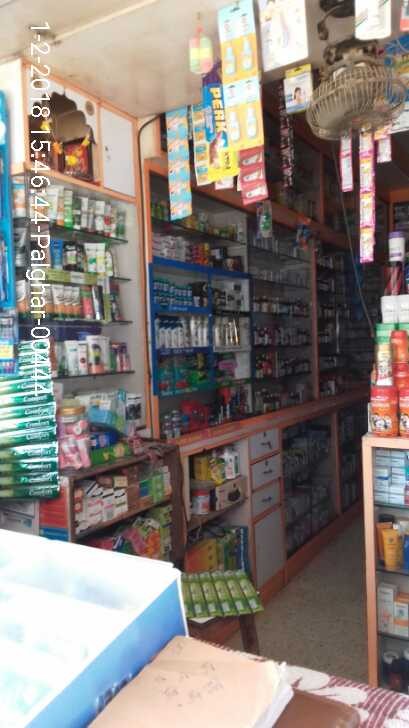vicks: (147, 276, 205, 310)
